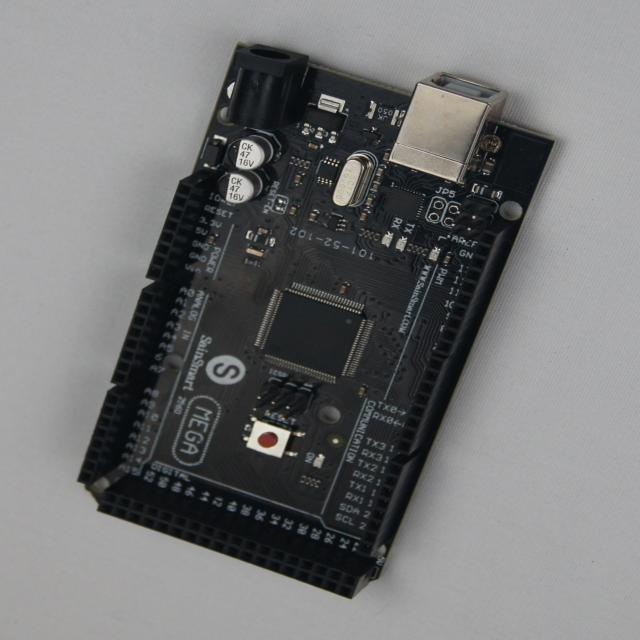Arduino Mega 2560 -Black-: (79, 46, 553, 598)
